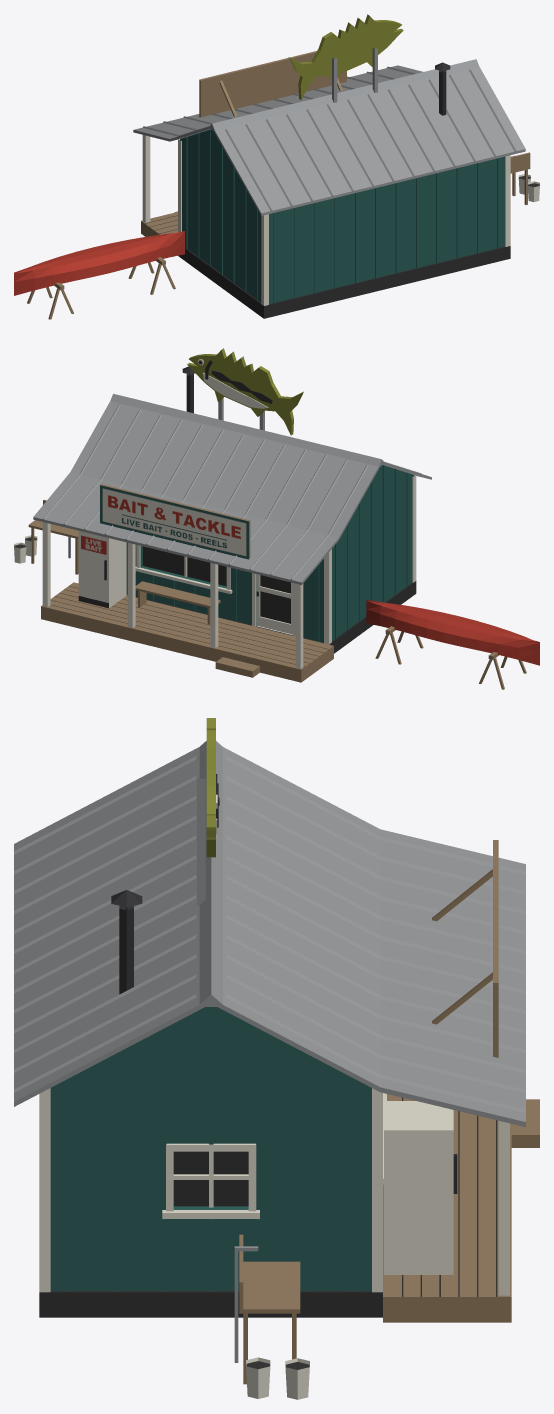
File: tackle-shop.glb
3 renders of one model, top to bottom at view 1: azimuth 30°, elevation 25°; view 2: azimuth 150°, elevation 25°; view 3: azimuth 270°, elevation 25°, orthographic. The views are drawn at different scales.
Visible parts, largest first — view 1: TackleShop; view 2: TackleShop; view 3: TackleShop.
Part boxes in pixels (x1,y1,x2,y2): TackleShop: (14, 14, 539, 319); TackleShop: (14, 348, 539, 689); TackleShop: (14, 718, 539, 1399).
Size of the model in its own units: 12.72 by 5.55 by 5.6.
Materials: 8 (1 with a texture image).
